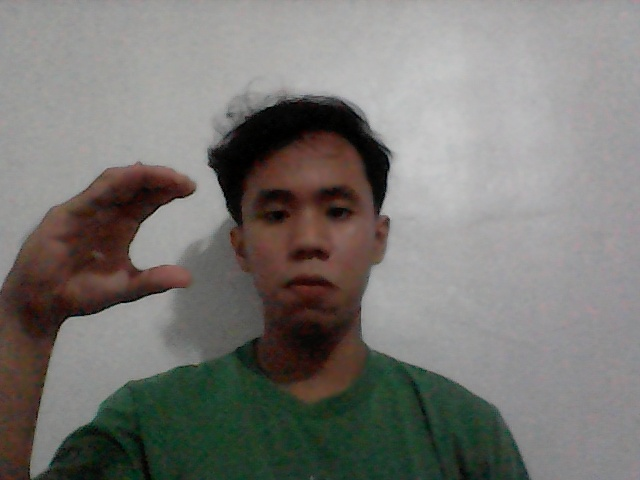C: (7, 134, 209, 360)
